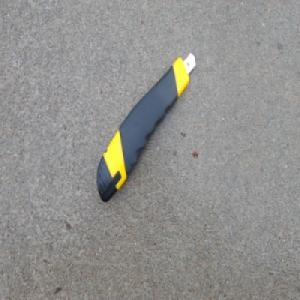Cutter: (95, 48, 196, 203)
